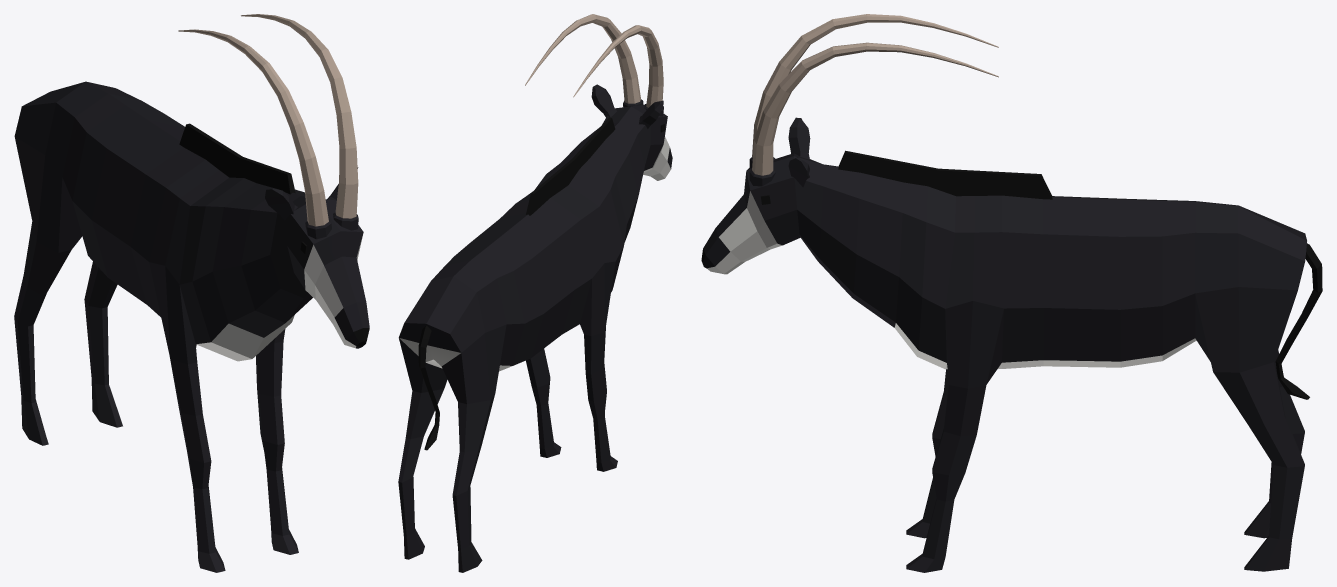
The model's file is Mesh_Antelope.obj.
The picture shows the model from 3 angles, left to right: view 1: azimuth 30°, elevation 25°; view 2: azimuth 150°, elevation 25°; view 3: azimuth 270°, elevation 25°; orthographic projection. The views are drawn at different scales.
Parts seen in each view (by area): view 1: Geo_Antelope; view 2: Geo_Antelope; view 3: Geo_Antelope.
Boxes of the visible parts, x1,y1,x2,y2 form: Geo_Antelope: [14, 14, 369, 572]; Geo_Antelope: [398, 14, 672, 572]; Geo_Antelope: [701, 14, 1322, 572].
Size of the model in its own units: 35.61 by 158 by 170.
1 material, 1 textured.
